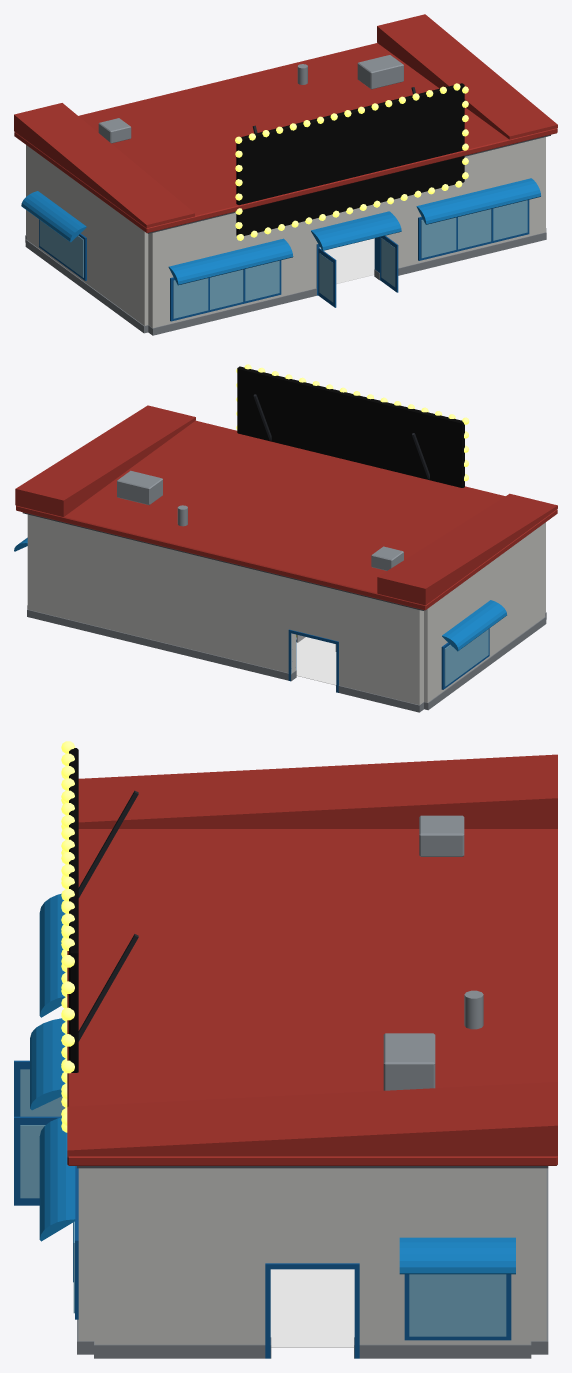
The model's file is tf-shop.glb.
3 views of the same model, one above another, from view 1: azimuth 30°, elevation 25°; view 2: azimuth 150°, elevation 25°; view 3: azimuth 270°, elevation 25° (orthographic). The views are drawn at different scales.
Parts seen in each view (by area): view 1: tf-shop; view 2: tf-shop; view 3: tf-shop.
Boxes of the visible parts, x1=… form: tf-shop: x1=14, y1=14, x2=557, y2=335; tf-shop: x1=14, y1=364, x2=557, y2=712; tf-shop: x1=14, y1=741, x2=557, y2=1358.
Size of the model in its own units: 28.9 by 11.39 by 16.85.
